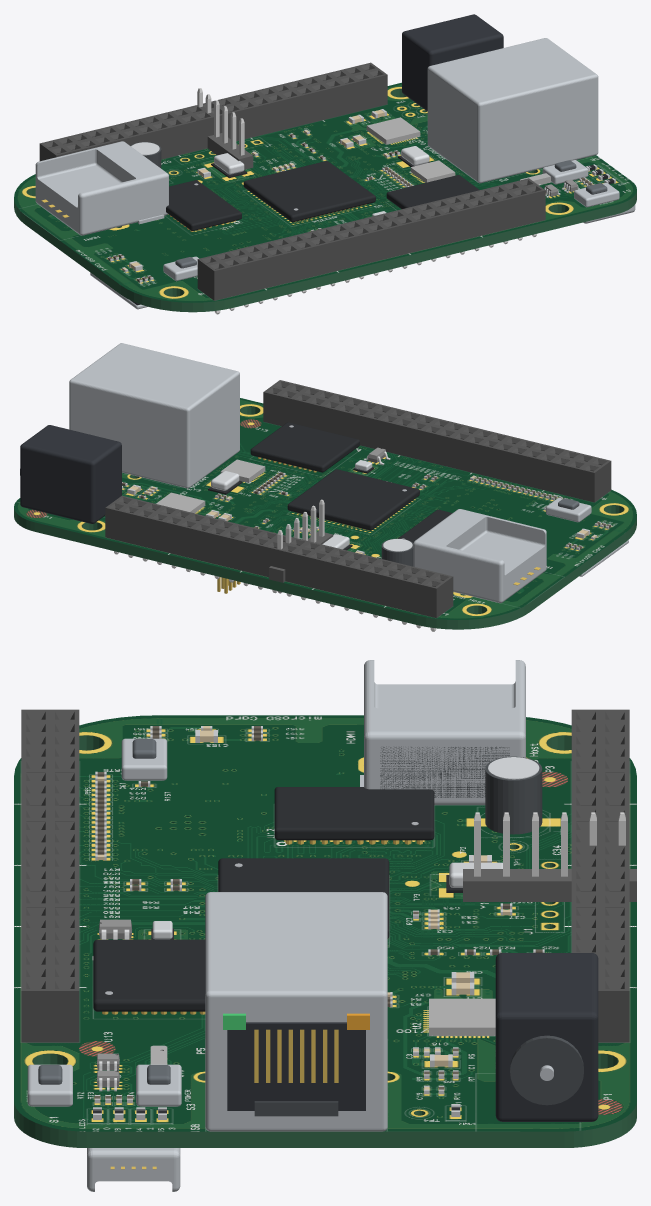
File: without-hdmi.glb
3 views of the same model, one above another, from view 1: azimuth 30°, elevation 25°; view 2: azimuth 150°, elevation 25°; view 3: azimuth 270°, elevation 25° (orthographic). The views are drawn at different scales.
Parts seen in each view (by area): view 1: Box0, P5, P8, P9, P3, U5, P1, U12, J1, U13, U2, S1 (+6 smaller); view 2: Box0, P5, P9, P8, P3, P1, U5, U13, J1, S2, C34, U12 (+3 smaller); view 3: Box0, P5, P8, P1, P3, P9, U12, U13, U5, J1, C34, P4 (+4 smaller).
Part boxes in pixels (box(x1,y1,x2,y2)): Box0: box(14, 82, 636, 312); P5: box(427, 38, 598, 183); P8: box(197, 178, 545, 314); P9: box(39, 62, 387, 161); P3: box(35, 141, 168, 235); U5: box(243, 161, 375, 222); P1: box(402, 14, 503, 111); U12: box(166, 180, 241, 231); J1: box(197, 88, 253, 169); U13: box(386, 175, 479, 209); U2: box(366, 117, 420, 144); S1: box(574, 182, 619, 207); Box0: box(14, 398, 636, 629); P5: box(69, 343, 239, 488); P9: box(105, 495, 453, 631); P8: box(263, 380, 611, 502); P3: box(413, 509, 546, 603); P1: box(20, 425, 121, 523); U5: box(287, 469, 419, 530); U13: box(250, 422, 359, 472); J1: box(269, 499, 333, 593); S2: box(546, 498, 591, 522); C34: box(381, 538, 413, 566); U12: box(398, 509, 452, 542); Box0: box(14, 715, 636, 1147); P5: box(205, 892, 387, 1131); P8: box(21, 709, 79, 1042); P1: box(495, 953, 598, 1121); P3: box(360, 660, 525, 805); P9: box(571, 709, 629, 1042); U12: box(274, 787, 434, 844); U13: box(93, 939, 205, 1014); U5: box(218, 858, 389, 938); J1: box(463, 812, 636, 901); C34: box(485, 756, 542, 834); P4: box(87, 1148, 180, 1191).
Bounding box in the file's own units: 87.79 × 21.6 × 54.64.
27 materials, 2 textured.
